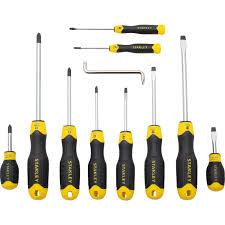screwdriver: (26, 31, 48, 199), (175, 34, 197, 199), (58, 65, 79, 198), (144, 65, 163, 198), (87, 83, 107, 200), (115, 86, 135, 200), (0, 122, 18, 190), (205, 126, 224, 190), (72, 41, 161, 53), (68, 24, 165, 34), (80, 57, 92, 75), (138, 68, 144, 85)
